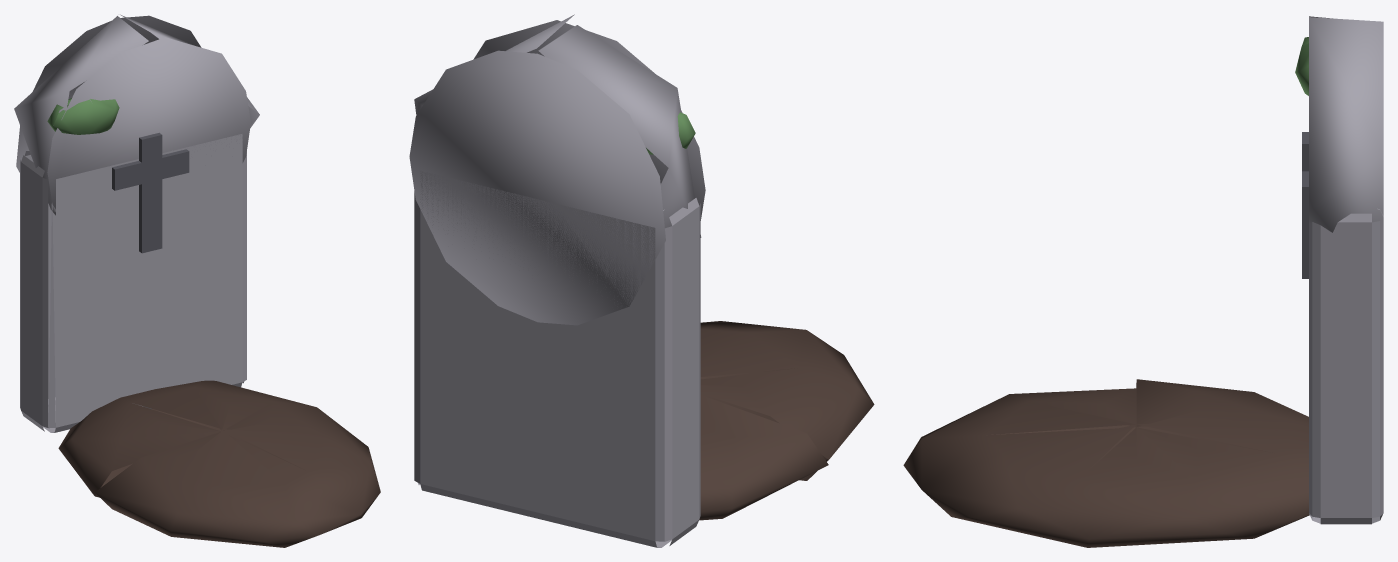
Rendered from gravestone.glb.
3 renders of one model, left to right at view 1: azimuth 30°, elevation 25°; view 2: azimuth 150°, elevation 25°; view 3: azimuth 270°, elevation 25°, orthographic. The views are drawn at different scales.
Parts seen in each view (by area): view 1: Cube, Sphere.001, Cylinder, Cube.001, Sphere, Cube.002; view 2: Cube, Cylinder, Sphere.001; view 3: Sphere.001, Cube, Cylinder, Cube.001.
Part boxes in pixels (box(x1,y1,x2,y2)): Cube: box(20, 134, 246, 432); Sphere.001: box(58, 380, 380, 547); Cylinder: box(14, 14, 259, 215); Cube.001: box(139, 132, 162, 253); Sphere: box(47, 98, 119, 134); Cube.002: box(112, 149, 189, 190); Cube: box(414, 170, 700, 547); Cylinder: box(409, 14, 705, 325); Sphere.001: box(699, 321, 874, 520); Sphere.001: box(903, 379, 1309, 547); Cube: box(1309, 208, 1383, 524); Cylinder: box(1309, 16, 1383, 232); Cube.001: box(1302, 132, 1308, 278).
Size of the model in its own units: 1.5 by 2.32 by 2.06.
